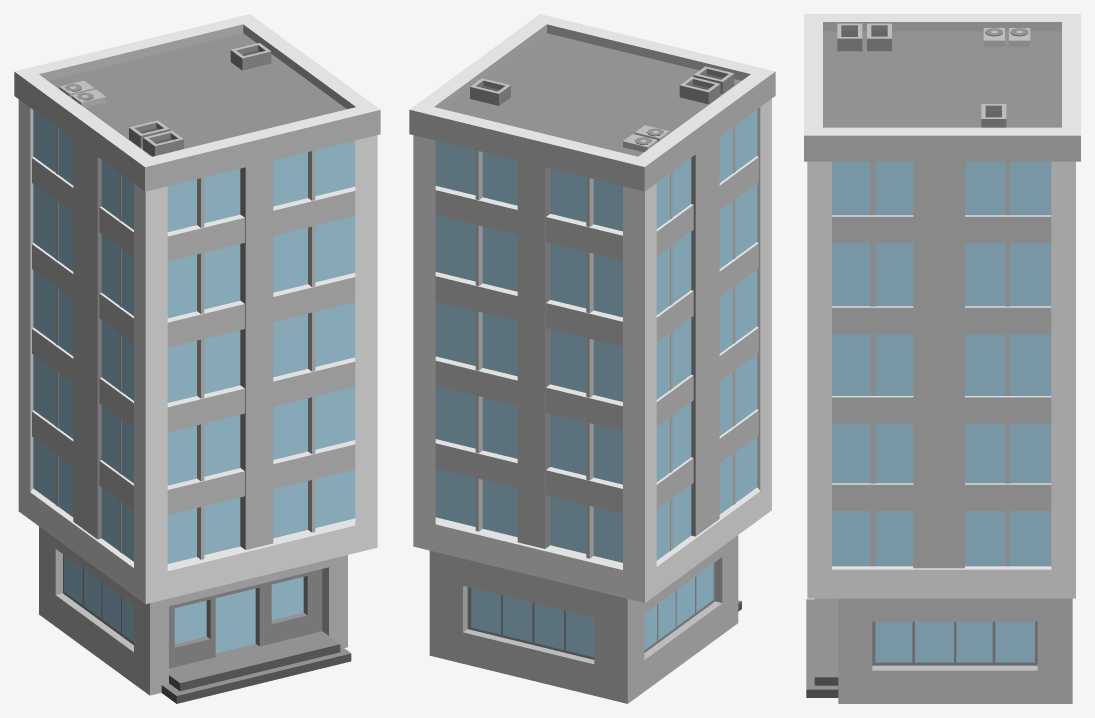
File: house_middle_010.glb
3 renders of one model, left to right at view 1: azimuth 30°, elevation 25°; view 2: azimuth 150°, elevation 25°; view 3: azimuth 270°, elevation 25°, orthographic. The views are drawn at different scales.
Parts seen in each view (by area): view 1: house_middle_010; view 2: house_middle_010; view 3: house_middle_010.
Part boxes in pixels (x1,y1,x2,y2): house_middle_010: [14, 14, 380, 703]; house_middle_010: [409, 14, 775, 703]; house_middle_010: [804, 14, 1080, 703].
Size of the model in its own units: 7.9 by 17.58 by 7.6.
1 material, 1 textured.
